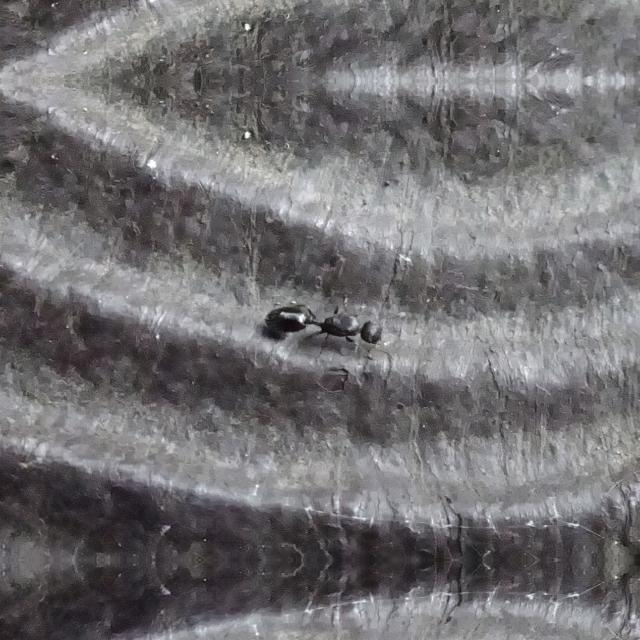Tetramorium: (268, 286, 392, 368)
